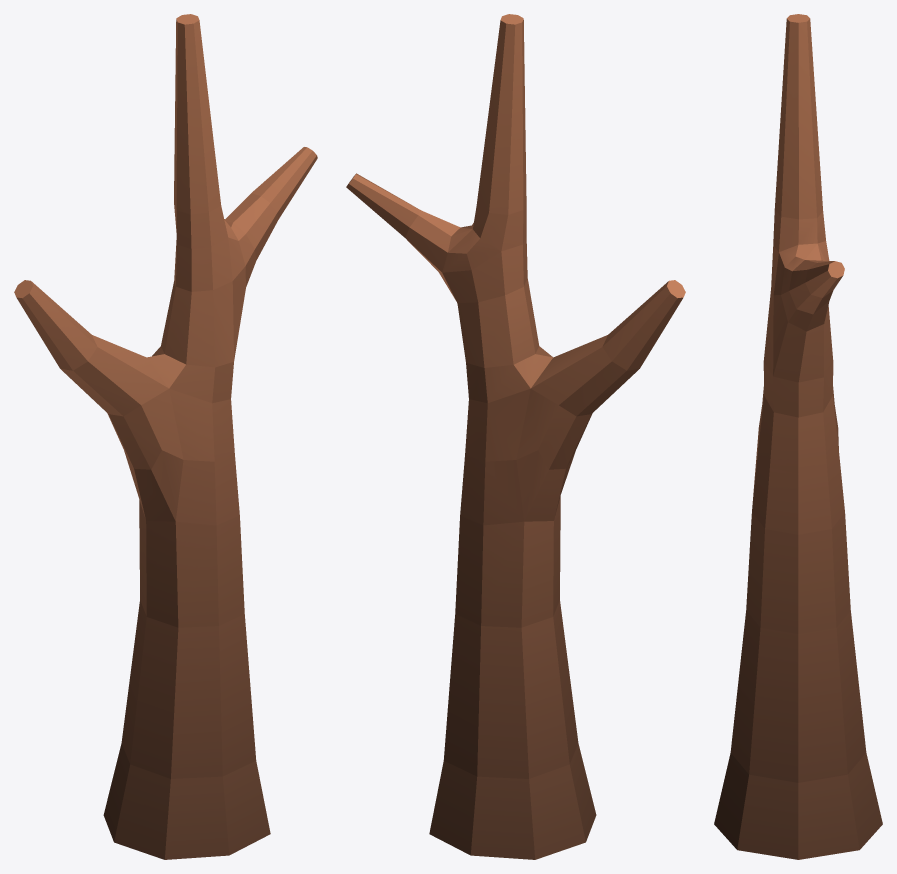
The model's file is dry tree.fbx.
3 views of the same model, side by side, from view 1: azimuth 30°, elevation 25°; view 2: azimuth 150°, elevation 25°; view 3: azimuth 270°, elevation 25° (orthographic).
Visible parts, largest first — view 1: dry tree; view 2: dry tree; view 3: dry tree.
Boxes of the visible parts, x1,y1,x2,y2 form: dry tree: [14, 14, 317, 859]; dry tree: [346, 14, 685, 859]; dry tree: [714, 14, 882, 859].
Bounding box in the file's own units: 177 × 428 × 81.24.
